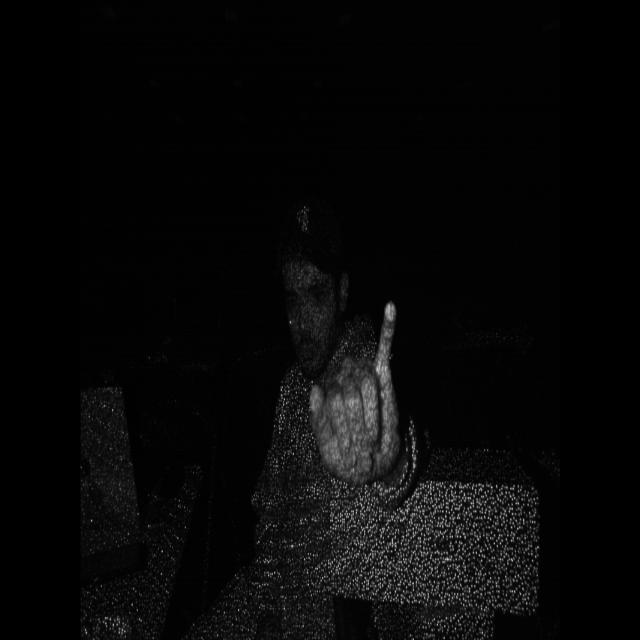I: (305, 288, 409, 489)
